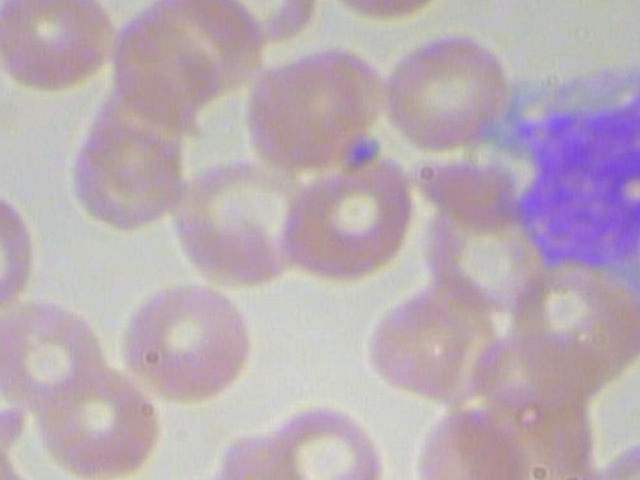RBC: (277, 148, 423, 278), (116, 279, 261, 409), (383, 25, 518, 152), (33, 362, 166, 479), (0, 295, 112, 413), (0, 0, 124, 95), (401, 397, 536, 480), (254, 399, 389, 480), (0, 181, 47, 316)
WBC: (466, 44, 640, 331)
